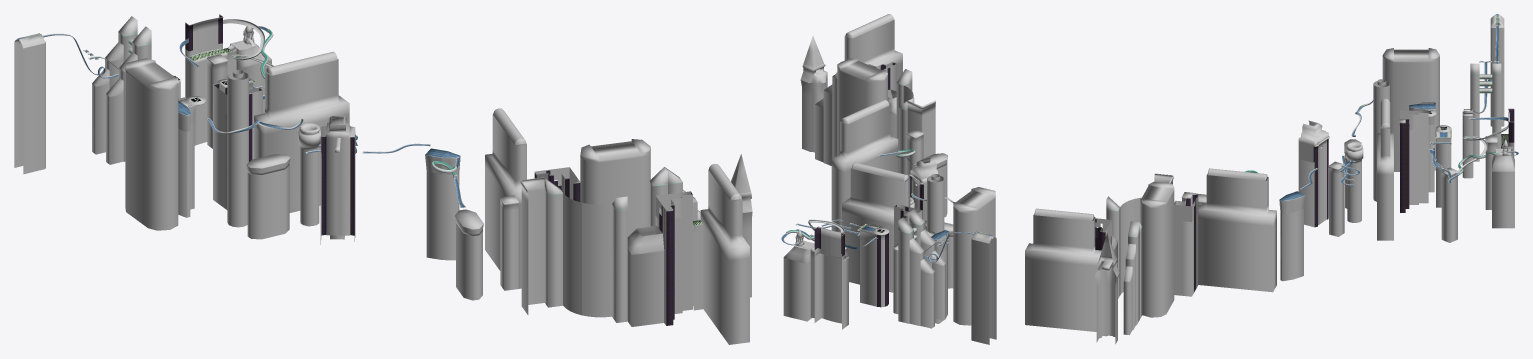
The picture shows the model from 3 angles, left to right: view 1: azimuth 30°, elevation 25°; view 2: azimuth 150°, elevation 25°; view 3: azimuth 270°, elevation 25°; orthographic projection. The views are drawn at different scales.
Size of the model in its own units: 15939 by 6105 by 18036.
